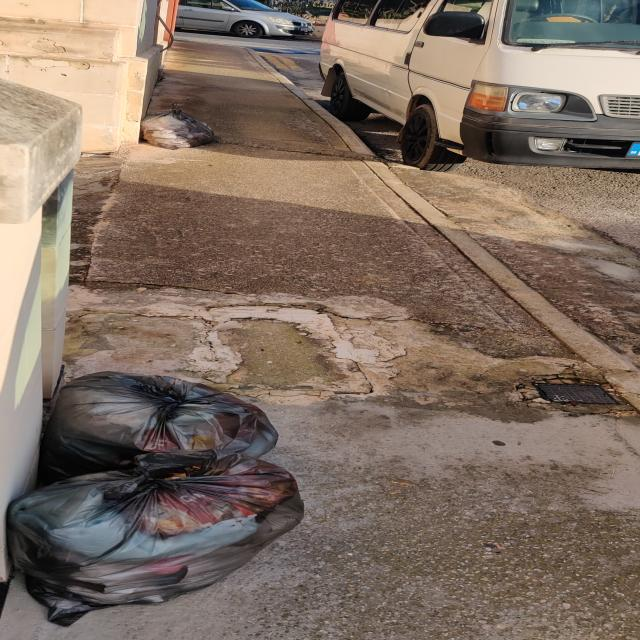Mixed Waste -Black Bags-: (0, 373, 311, 626), (137, 106, 226, 153)
